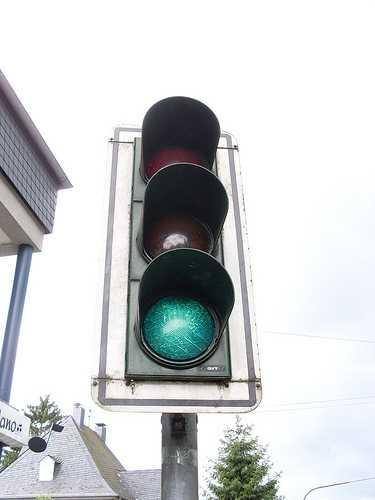green: (122, 93, 236, 386), (117, 256, 240, 377)
